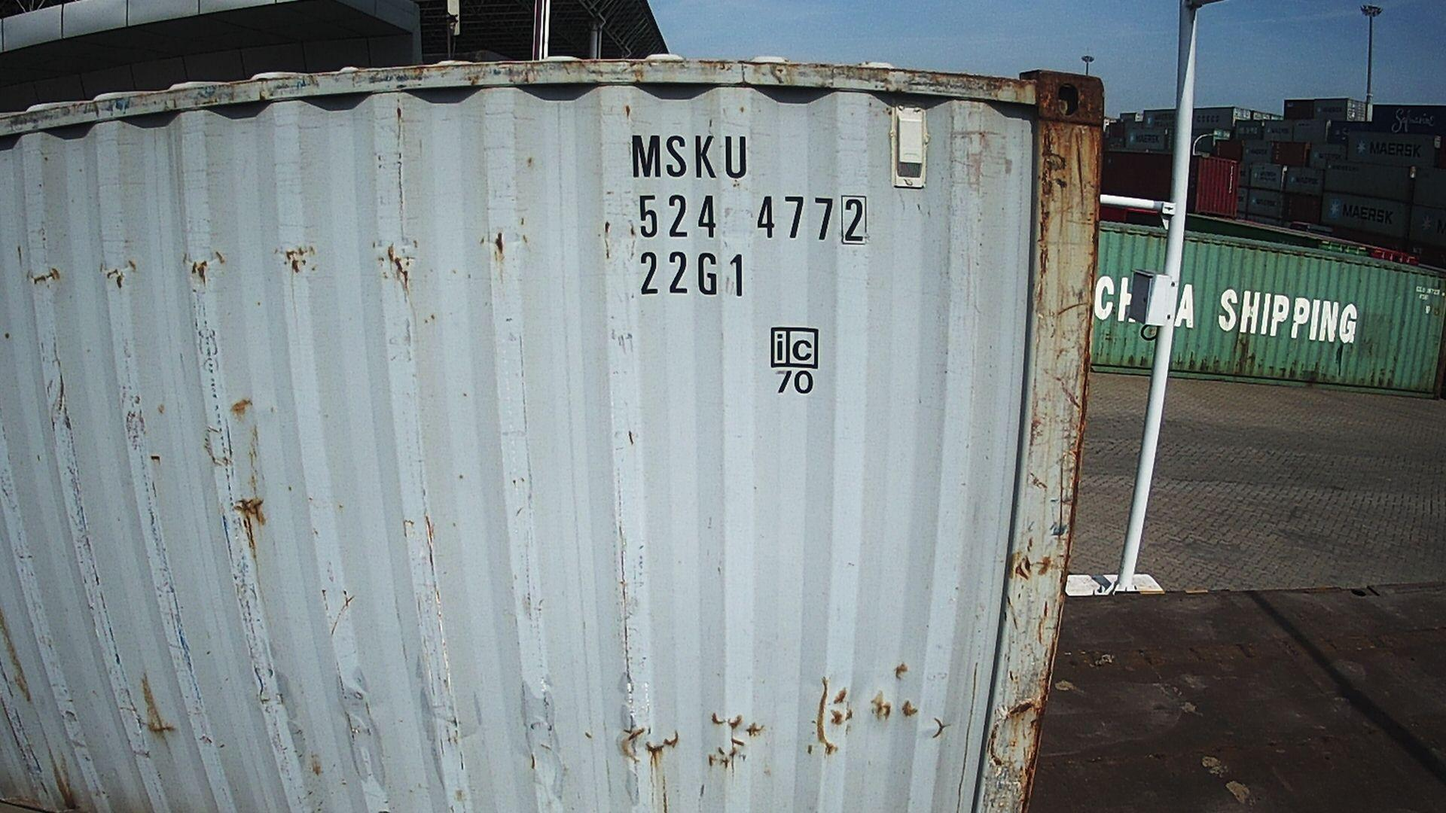container-numbers: (631, 190, 871, 247), (625, 130, 753, 184), (636, 248, 749, 300)
